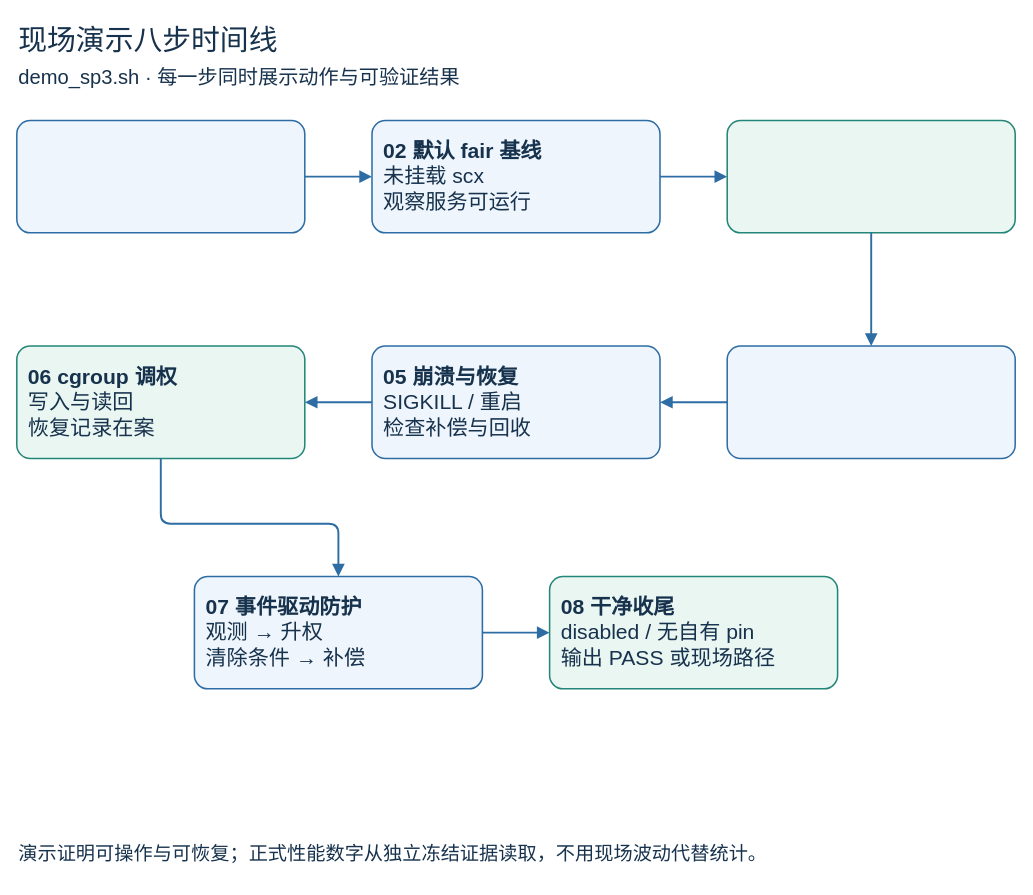
This 1033x895 diagram has some shape labels left out. The centre of each missing label's shape, as x and y in pixels:
01 契约与服务 检查 schema 执行服务就绪: the point at 160,176
03 策略生效 ops / class 读回 内核自证: the point at 870,176
04 感知链应答 features / route / slo 扰动下实时查询: the point at 870,402
